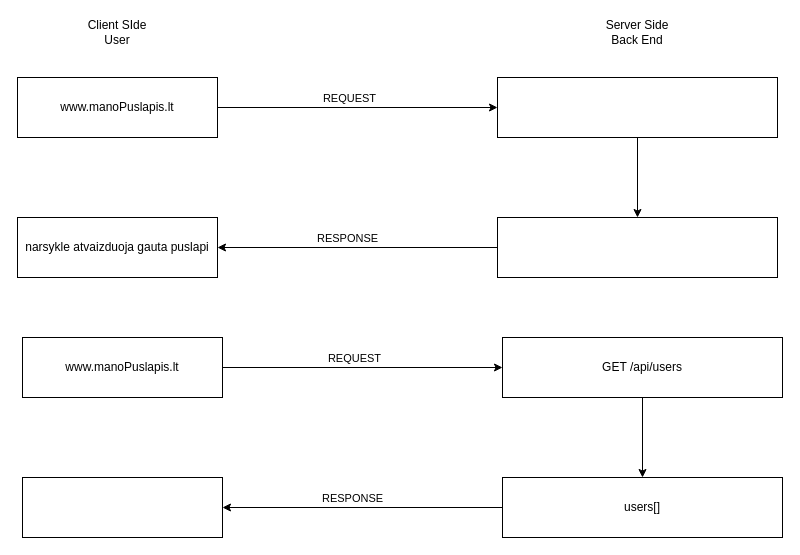
Some shapes in this 800 by 555 pixel diagram are drawn without their labels. The shapes that lost their labels are listed below. From the top down, each one's centre as x and y in pixels, then its label:
At point (637, 107): "GET www.manoPuslapis.lt".
At point (637, 247): "index.html".
At point (122, 507): "gauna duomenis".
